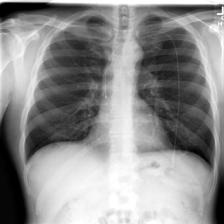normal: (18, 10, 220, 175)
